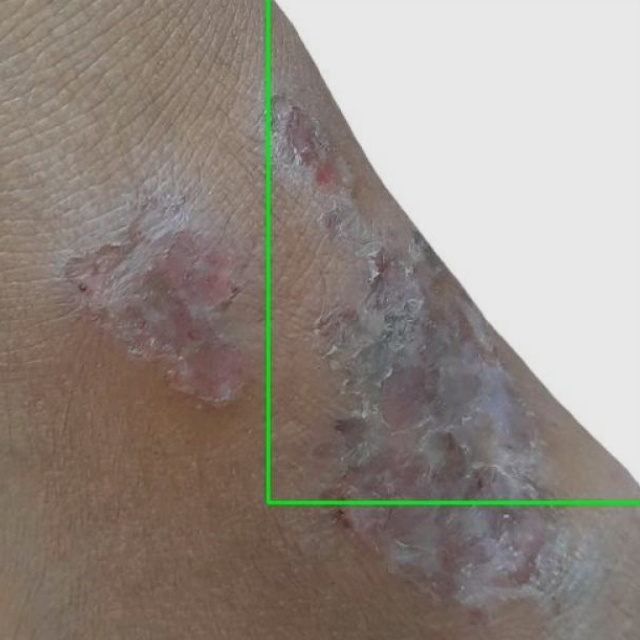Contact Dermatitis: (268, 0, 639, 502)
